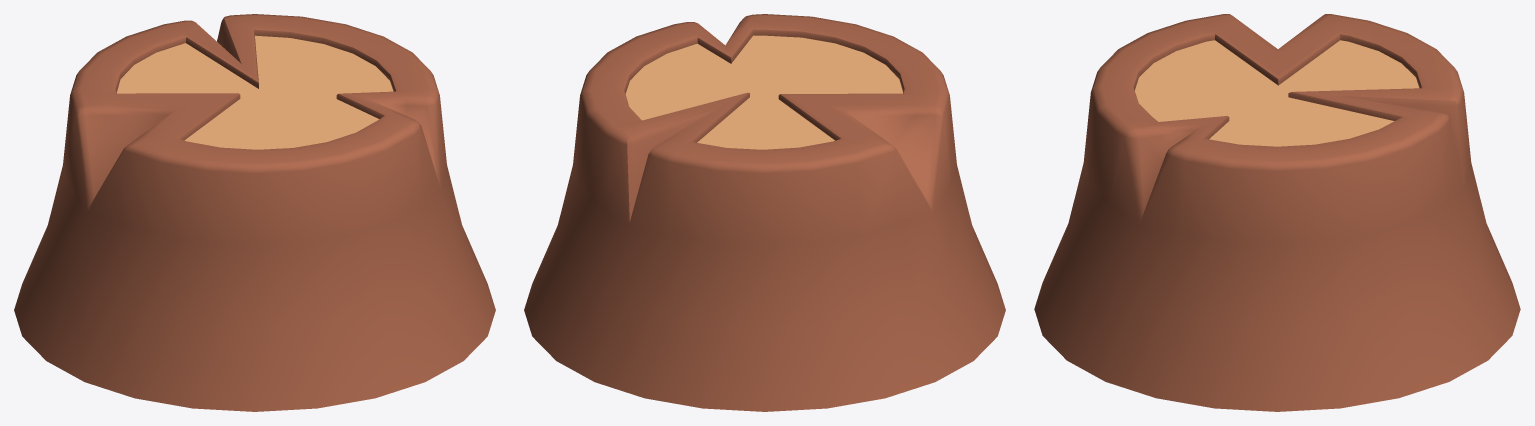
The model's file is Tree_Log_01.fbx.
3 views of the same model, side by side, from view 1: azimuth 30°, elevation 25°; view 2: azimuth 150°, elevation 25°; view 3: azimuth 270°, elevation 25° (orthographic).
Visible parts, largest first — view 1: Tree_Log_01; view 2: Tree_Log_01; view 3: Tree_Log_01.
Part boxes in pixels (left/top/right/bottom): Tree_Log_01: left=14, top=14, right=495, bottom=411; Tree_Log_01: left=524, top=14, right=1005, bottom=411; Tree_Log_01: left=1034, top=14, right=1520, bottom=411.
Bounding box in the file's own units: 962 × 486 × 962.
